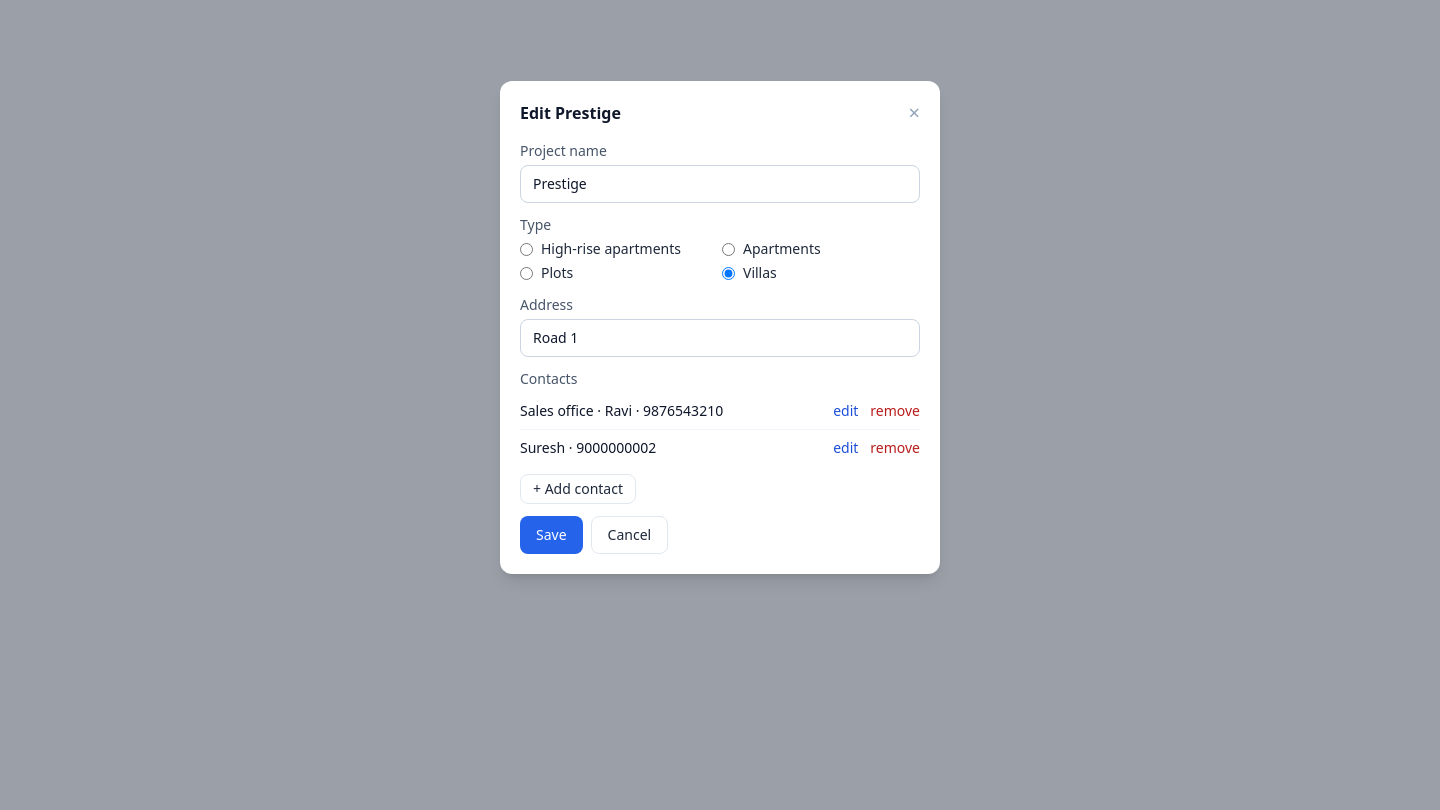
ProjectForm › refuses to save while a contact is still being typed
Expected: the button with aria-label "Remove Ravi" is shown, [870,401,920,421]
Click the button "+ Add contact" at (578, 489), box [520,474,636,504]
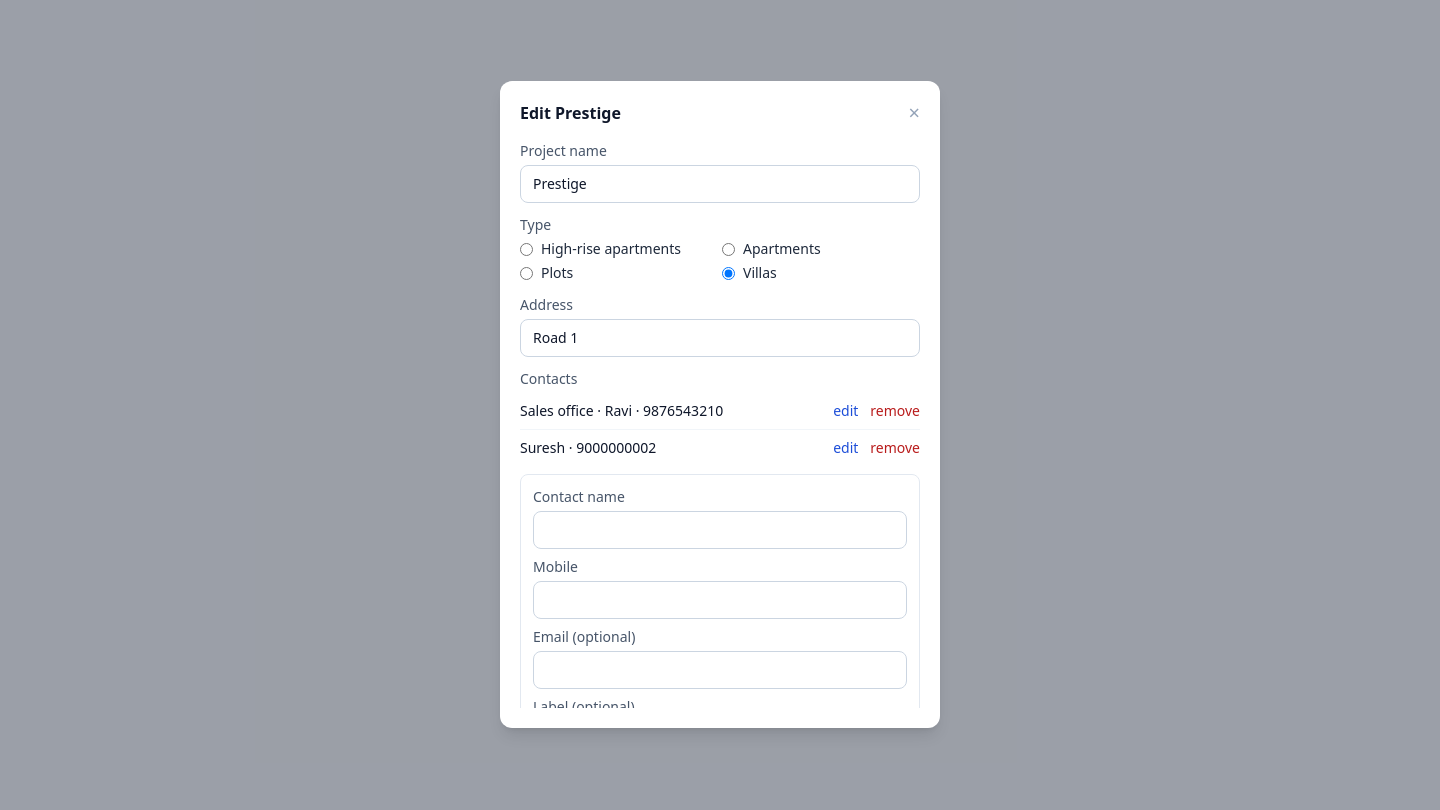
Type "Accounts" into the field labelled "Contact name" at (720, 530), box [533,511,907,549]
(page scrolled)
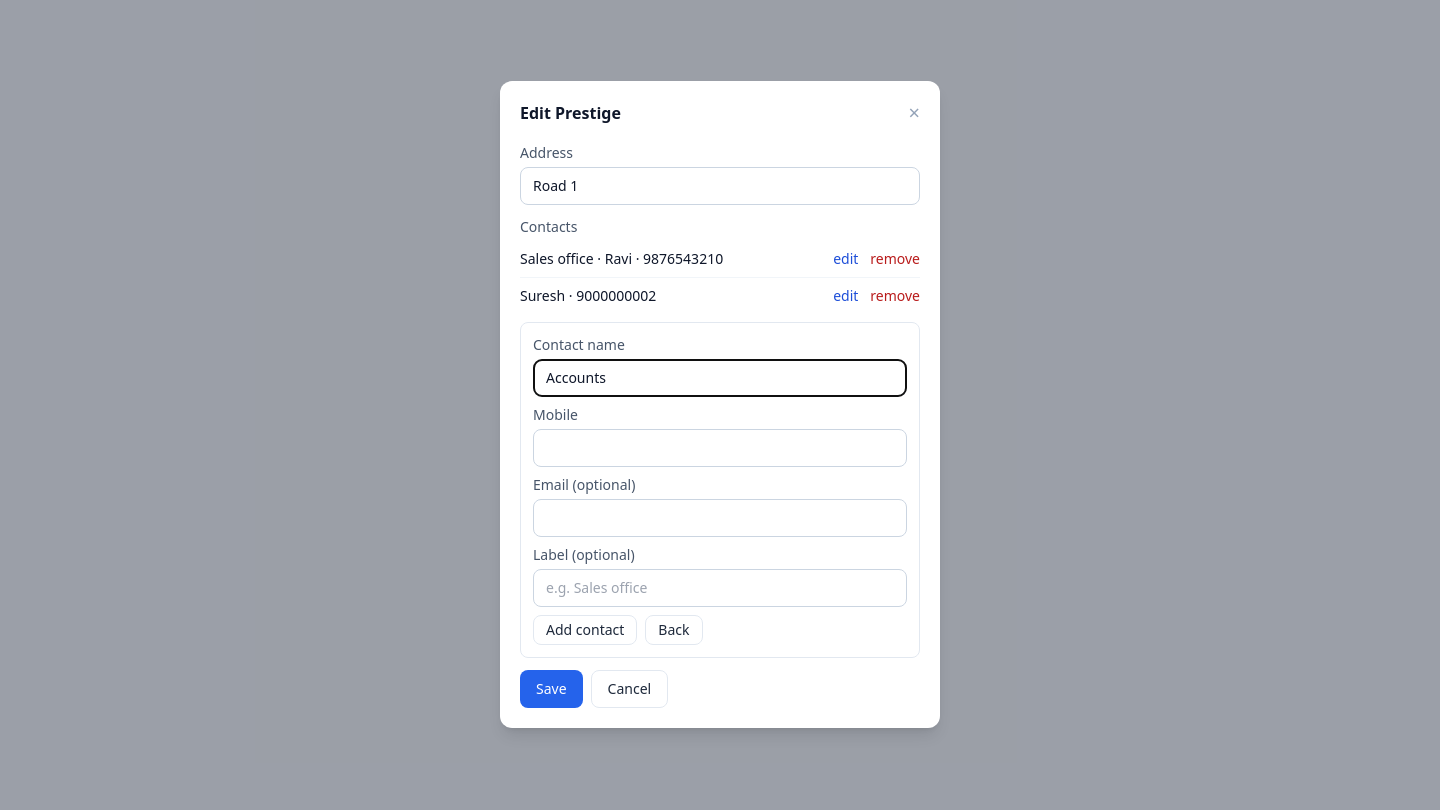
Click the button "Save" at (551, 689), box [520,670,583,708]
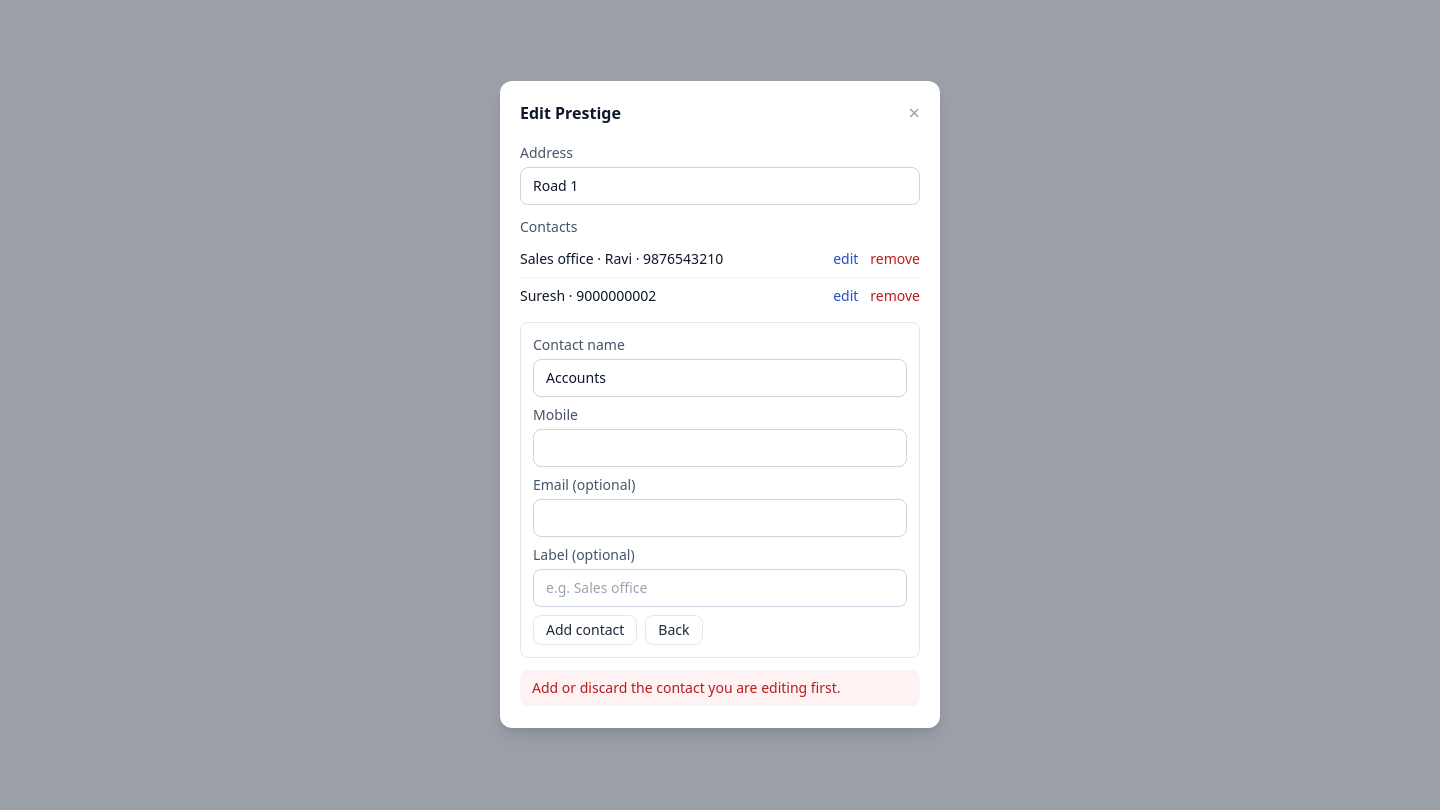
Result: the message reads "Add or discard the contact you are editing first." at [532,678,841,697]
